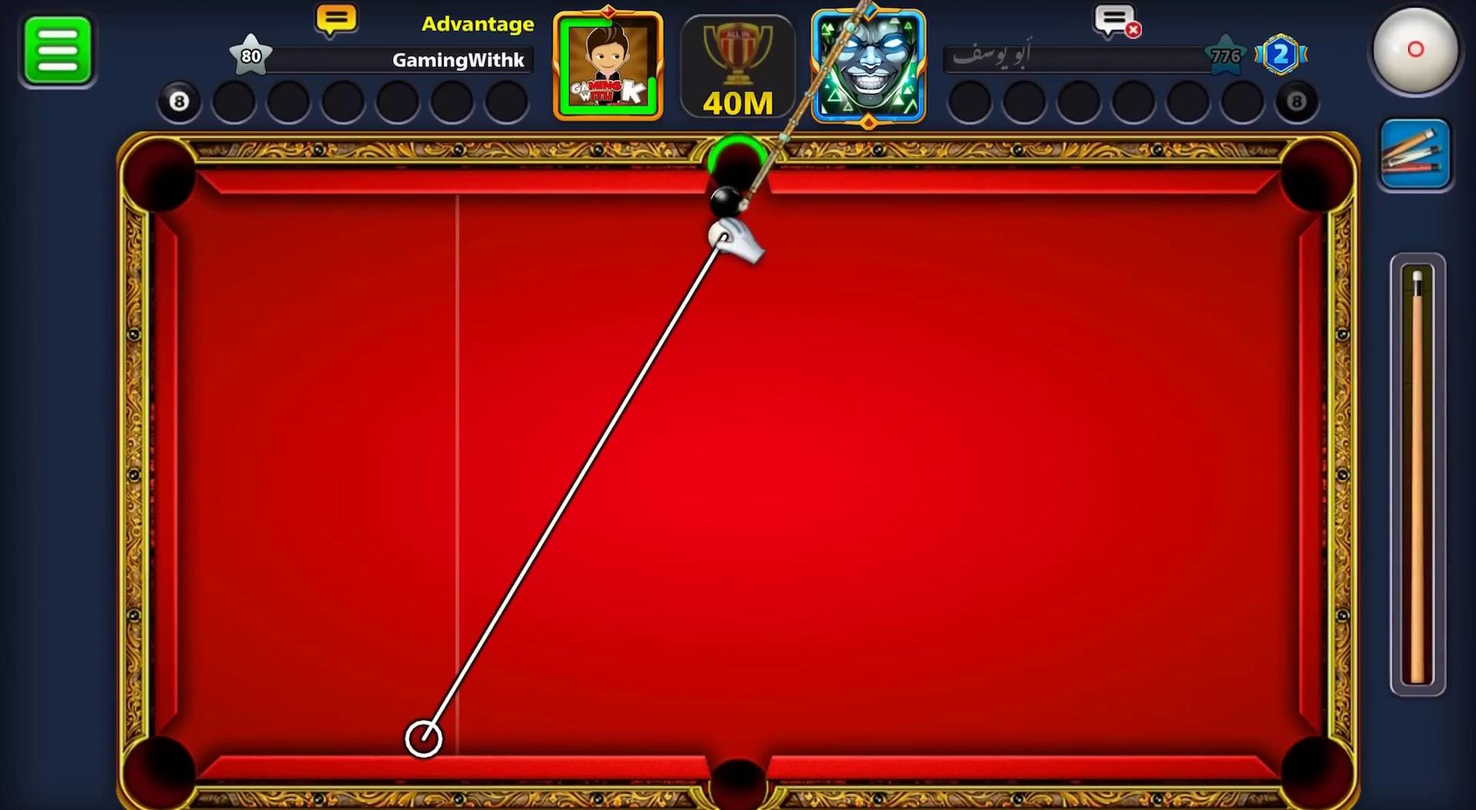Ball: (702, 177, 750, 225)
Force: (1389, 253, 1451, 709)
Guideline: (411, 230, 732, 753)
Hole: (1267, 118, 1366, 228), (1254, 719, 1374, 809), (701, 124, 772, 222), (122, 135, 199, 212), (122, 732, 199, 808), (705, 755, 769, 809)
Play_Area: (146, 192, 1298, 753)
Spin: (1363, 1, 1474, 107)
White: (701, 215, 744, 252)
